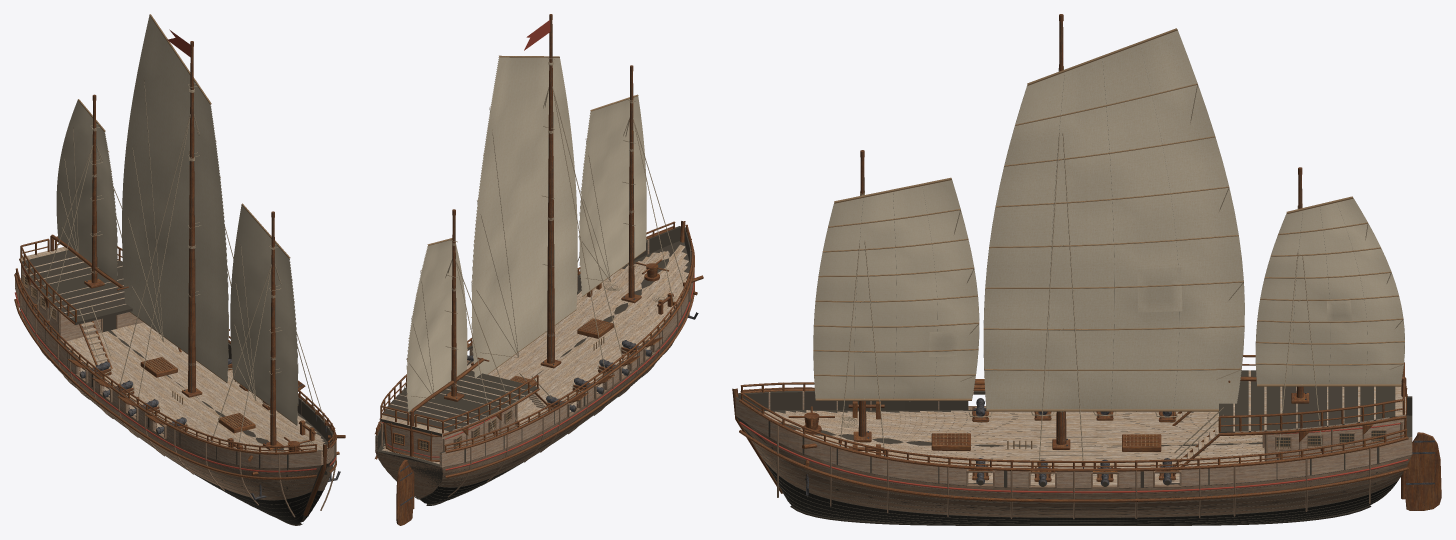
File: fuchuan-lod2.glb
3 renders of one model, left to right at view 1: azimuth 30°, elevation 25°; view 2: azimuth 150°, elevation 25°; view 3: azimuth 270°, elevation 25°, orthographic. The views are drawn at different scales.
Visible parts, largest first — view 1: sail_1, hull, deck, sail_0, sail_2, shadow_deck, deck_fittings, bulwark_rails, mast_timber_1, shadow_hull, sterncastle, mast_timber_0 (+7 smaller); view 2: sail_1, deck, hull, sail_0, sail_2, shadow_deck, deck_fittings, shadow_hull, bulwark_rails, mast_timber_1, mast_timber_0, stern_transom (+9 smaller); view 3: sail_1, hull, sail_0, sail_2, deck, shadow_deck, shadow_hull, bulwark_rails, deck_fittings, rudder_blade, sterncastle, rigging_1.
Part boxes in pixels (x1,y1,x2,y2): sail_1: (122, 14, 228, 382); hull: (14, 273, 336, 525); deck: (19, 247, 327, 452); sail_0: (230, 203, 298, 425); sail_2: (56, 99, 117, 281); shadow_deck: (22, 250, 132, 324); deck_fittings: (21, 265, 345, 500); bulwark_rails: (15, 236, 335, 452); mast_timber_1: (188, 47, 195, 392); shadow_hull: (15, 273, 334, 522); sterncastle: (22, 269, 143, 342); mast_timber_0: (270, 218, 276, 445); sail_1: (471, 55, 577, 378); deck: (379, 244, 688, 464); hull: (375, 221, 694, 505); sail_0: (578, 94, 646, 296); sail_2: (406, 238, 467, 412); shadow_deck: (380, 371, 538, 436); deck_fittings: (381, 259, 703, 461); shadow_hull: (375, 226, 691, 503); bulwark_rails: (376, 221, 693, 451); mast_timber_1: (547, 20, 554, 363); mast_timber_0: (628, 71, 634, 297); stern_transom: (385, 424, 441, 459); sail_1: (983, 28, 1244, 411); hull: (732, 388, 1412, 525); sail_0: (813, 177, 979, 401); sail_2: (1255, 196, 1404, 386); deck: (764, 370, 1406, 485); shadow_deck: (1219, 370, 1395, 432); shadow_hull: (735, 391, 1412, 524); bulwark_rails: (740, 354, 1407, 468); deck_fittings: (788, 386, 1406, 495); rudder_blade: (1405, 432, 1441, 510); sterncastle: (1264, 419, 1403, 460); rigging_1: (1037, 132, 1085, 473).
Size of the model in its own units: 10.4 by 26.65 by 33.55.
Materials: 13 (8 with a texture image).
